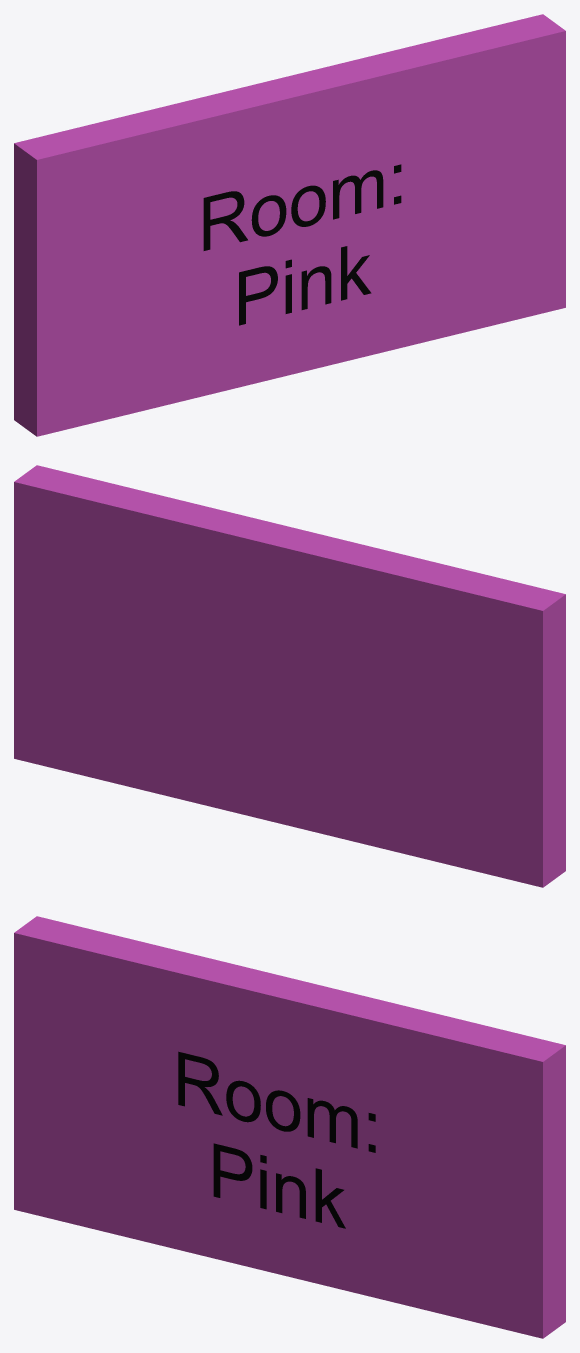
Rendered from ROOM PLAQUE - PINK.fbx.
The picture shows the model from 3 angles, top to bottom: view 1: azimuth 30°, elevation 25°; view 2: azimuth 150°, elevation 25°; view 3: azimuth 330°, elevation 25°; orthographic projection.
Visible parts, largest first — view 1: Box001, TextPlus001; view 2: Box001; view 3: Box001, TextPlus001.
Part boxes in pixels (x1,y1,x2,y2): Box001: (14, 14, 565, 436); TextPlus001: (203, 164, 401, 325); Box001: (14, 465, 565, 887); Box001: (14, 916, 565, 1338); TextPlus001: (178, 1051, 375, 1228).
Size of the model in its own units: 40 by 20 by 3.17.
